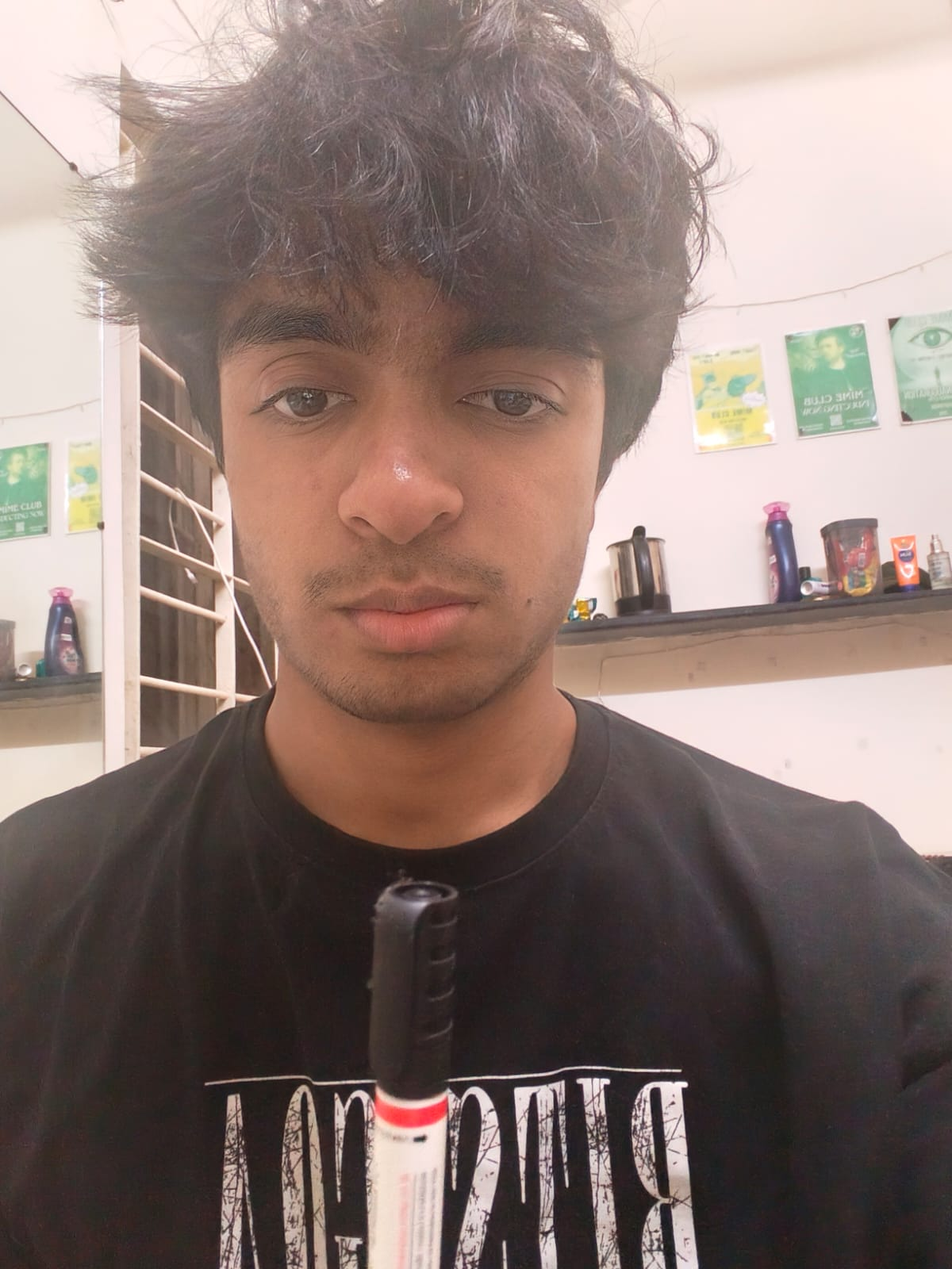case: (355, 847, 479, 1269)
